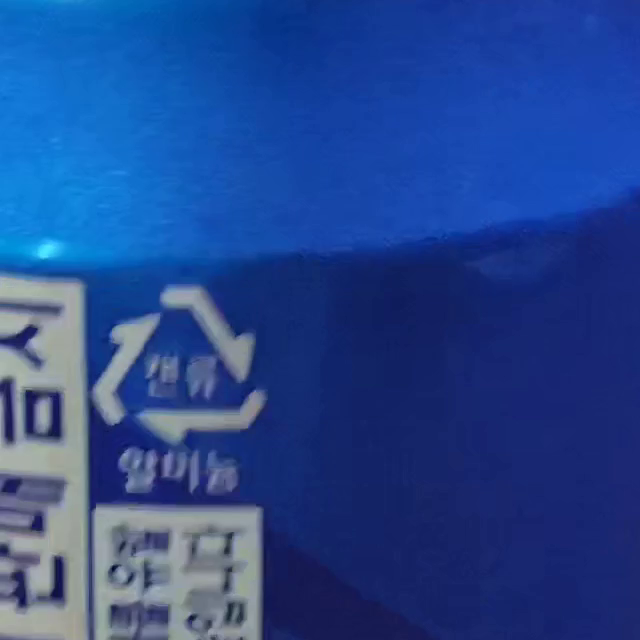Can: (93, 287, 270, 445)
